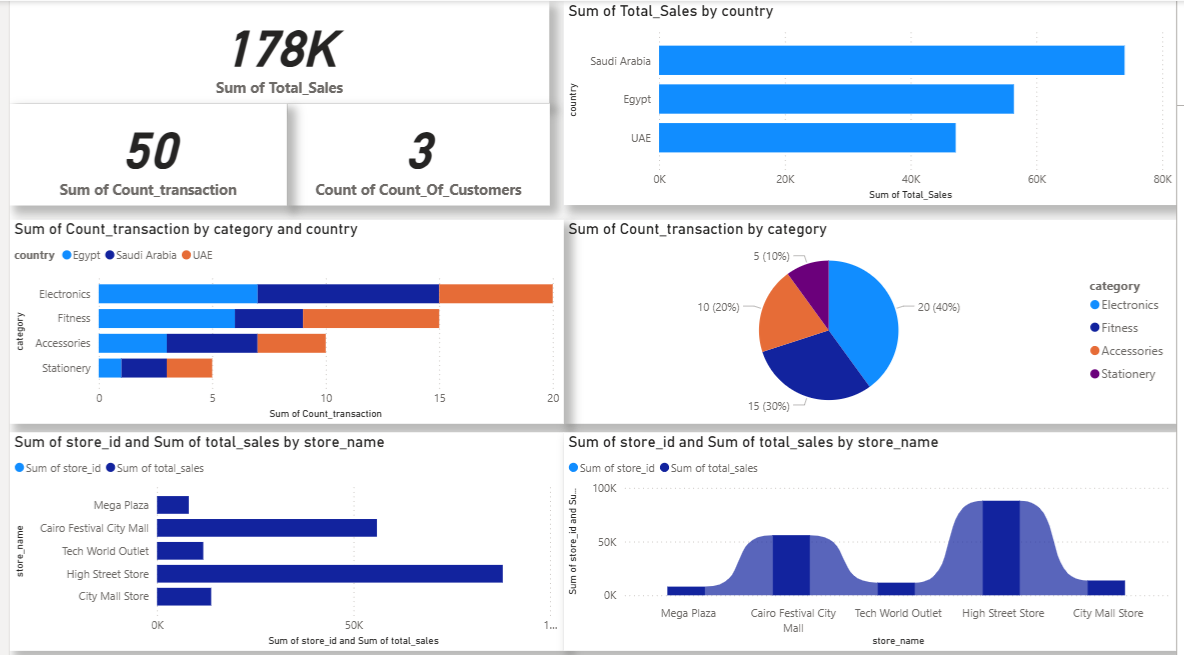

What the dashboard file says about the page in this screenshot:
{"tool":"powerbi","page":{"name":"Page 1","canvas":[1280,720],"ordinal":0},"visuals":[{"type":"card","fields":{"Values":["Sum(sales_by_country_gold.Total_Sales)"]},"box":[0,0,592,112],"z":0},{"type":"card","fields":{"Values":["CountNonNull(country_customer_gold.Count_Of_Customers)"]},"box":[304,112,288,112],"z":1000},{"type":"card","fields":{"Values":["Sum(contry_transaction_gold.Count_transaction)"]},"box":[0,112,304,112],"z":2000},{"type":"clusteredBarChart","fields":{"Category":["sales_by_country_gold.country"],"Y":["Sum(sales_by_country_gold.Total_Sales)"]},"box":[608,0,672,224],"z":3000},{"type":"pieChart","fields":{"Category":["contry_transaction_gold.category"],"Y":["Sum(contry_transaction_gold.Count_transaction)"]},"box":[608,240,672,224],"z":4000},{"type":"barChart","fields":{"Category":["contry_transaction_gold.category"],"Series":["contry_transaction_gold.country"],"Y":["Sum(contry_transaction_gold.Count_transaction)"]},"box":[0,240,608,224],"z":5000},{"type":"barChart","fields":{"Category":["store_performance_gold.store_name"],"Y":["Sum(store_performance_gold.store_id)","Sum(store_performance_gold.total_sales)"]},"box":[0,474,608,240],"z":6000},{"type":"ribbonChart","fields":{"Category":["store_performance_gold.store_name"],"Y":["Sum(store_performance_gold.store_id)","Sum(store_performance_gold.total_sales)"]},"box":[608,474,672,240],"z":7000}]}

Visuals, with their boxes in screenshot pixels (x1, y1, x2, y2), scaled from the page's 1280x720 canvas onto the 1184x655 screenshot:
card - Sum(sales_by_country_gold.Total_Sales): [x1=0, y1=0, x2=548, y2=102]
card - CountNonNull(country_customer_gold.Count_Of_Customers): [x1=281, y1=102, x2=548, y2=204]
card - Sum(contry_transaction_gold.Count_transaction): [x1=0, y1=102, x2=281, y2=204]
clusteredBarChart - sales_by_country_gold.country x Sum(sales_by_country_gold.Total_Sales): [x1=562, y1=0, x2=1183, y2=204]
pieChart - contry_transaction_gold.category x Sum(contry_transaction_gold.Count_transaction): [x1=562, y1=218, x2=1183, y2=422]
barChart - contry_transaction_gold.category x contry_transaction_gold.country: [x1=0, y1=218, x2=562, y2=422]
barChart - store_performance_gold.store_name x Sum(store_performance_gold.store_id): [x1=0, y1=431, x2=562, y2=650]
ribbonChart - store_performance_gold.store_name x Sum(store_performance_gold.store_id): [x1=562, y1=431, x2=1183, y2=650]
